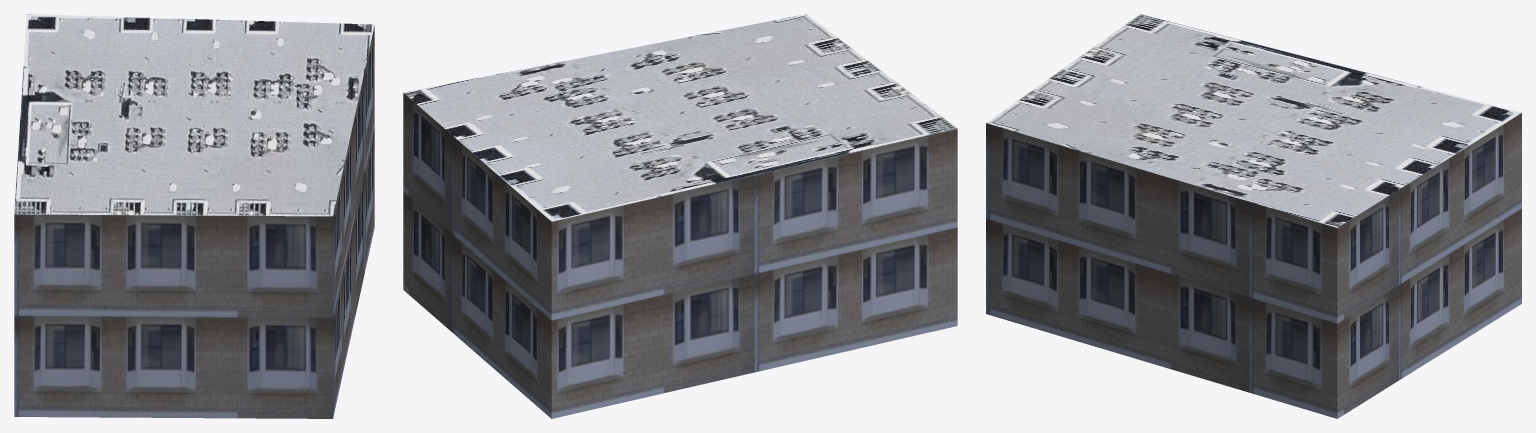
The model's file is ResTex__5263.fbx.
The picture shows the model from 3 angles, left to right: view 1: azimuth 30°, elevation 25°; view 2: azimuth 150°, elevation 25°; view 3: azimuth 270°, elevation 25°; orthographic projection. The views are drawn at different scales.
Parts seen in each view (by area): view 1: CityEngineMaterial_3_m, CityEngineMaterial_8_m; view 2: CityEngineMaterial_3_m, CityEngineMaterial_8_m; view 3: CityEngineMaterial_3_m, CityEngineMaterial_8_m.
Part boxes in pixels (x1=…): CityEngineMaterial_3_m: x1=14, y1=26, x2=374, y2=418; CityEngineMaterial_8_m: x1=14, y1=14, x2=374, y2=216; CityEngineMaterial_3_m: x1=403, y1=93, x2=957, y2=418; CityEngineMaterial_8_m: x1=403, y1=14, x2=957, y2=221; CityEngineMaterial_3_m: x1=986, y1=113, x2=1521, y2=418; CityEngineMaterial_8_m: x1=986, y1=14, x2=1521, y2=227.
Bounding box in the file's own units: 14.42 × 6 × 15.25.
2 materials, 2 textured.
